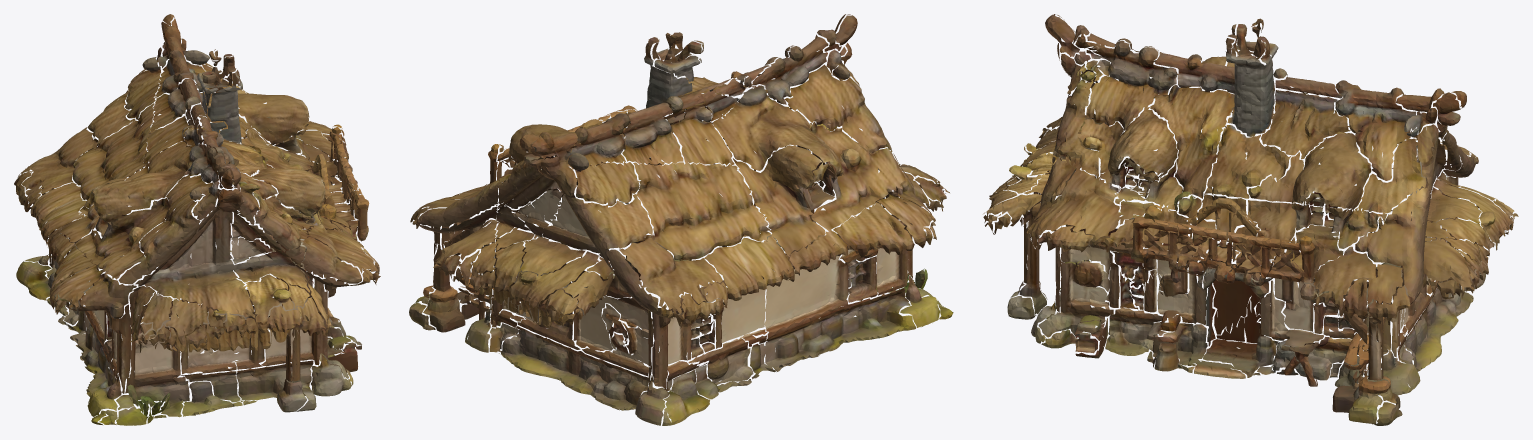
File: village_building_04_lod0.glb
3 views of the same model, side by side, from view 1: azimuth 30°, elevation 25°; view 2: azimuth 150°, elevation 25°; view 3: azimuth 270°, elevation 25° (orthographic). The views are drawn at different scales.
Parts seen in each view (by area): view 1: world; view 2: world; view 3: world.
Part boxes in pixels (<box>): world: <box>14,14,380,425</box>; world: <box>409,14,953,425</box>; world: <box>983,14,1518,425</box>.
Size of the model in its own units: 0.5135 by 0.3422 by 0.5442.
Materials: 1 (1 with a texture image).
